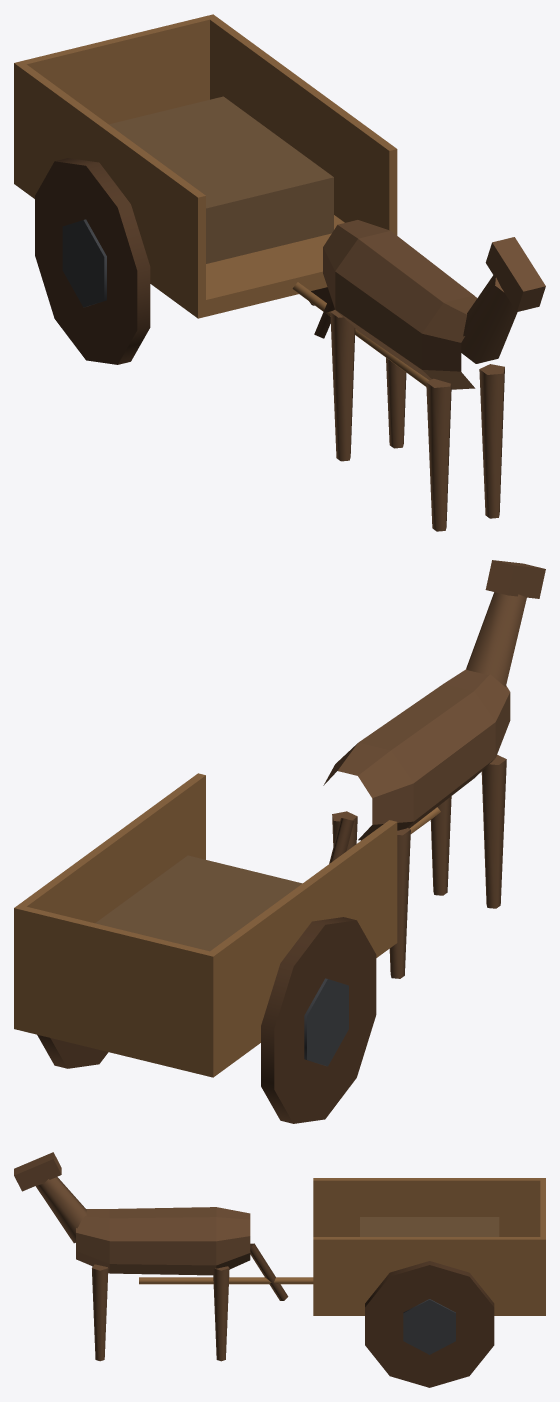
The model's file is veh_ground_cart_a03.glb.
3 views of the same model, one above another, from view 1: azimuth 30°, elevation 25°; view 2: azimuth 150°, elevation 25°; view 3: azimuth 270°, elevation 25° (orthographic). The views are drawn at different scales.
Parts seen in each view (by area): view 1: body, animal_0, wheel_0; view 2: body, animal_0, wheel_0, wheel_1; view 3: body, animal_0, wheel_1.
Boxes of the visible parts, x1,y1,x2,y2 form: body: (14, 14, 429, 386); animal_0: (314, 220, 545, 531); wheel_0: (35, 158, 150, 364); body: (14, 773, 440, 1077); animal_0: (323, 560, 545, 978); wheel_0: (261, 917, 376, 1123); wheel_1: (37, 1034, 108, 1068); body: (139, 1178, 545, 1315); animal_0: (14, 1152, 288, 1361); wheel_1: (365, 1261, 494, 1387).
Size of what is drawn, in the model's own units: 1.84 by 2.23 by 5.49.
